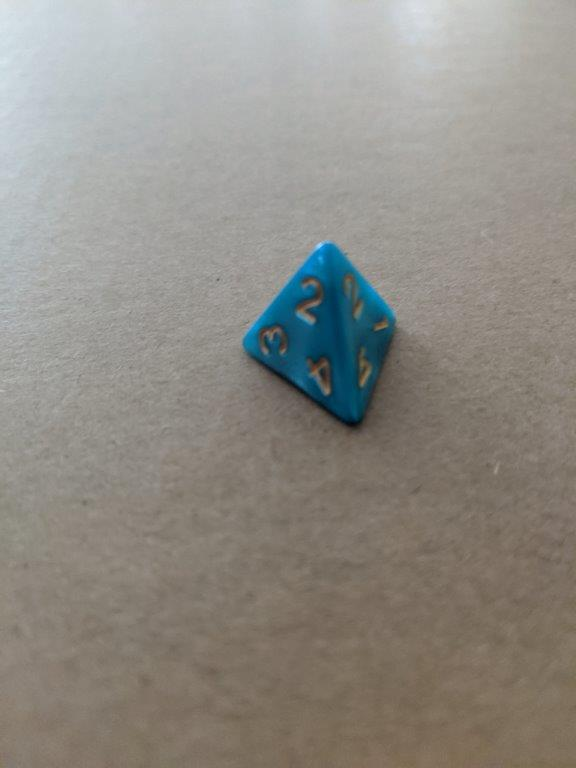d4-2: (234, 236, 405, 431)
